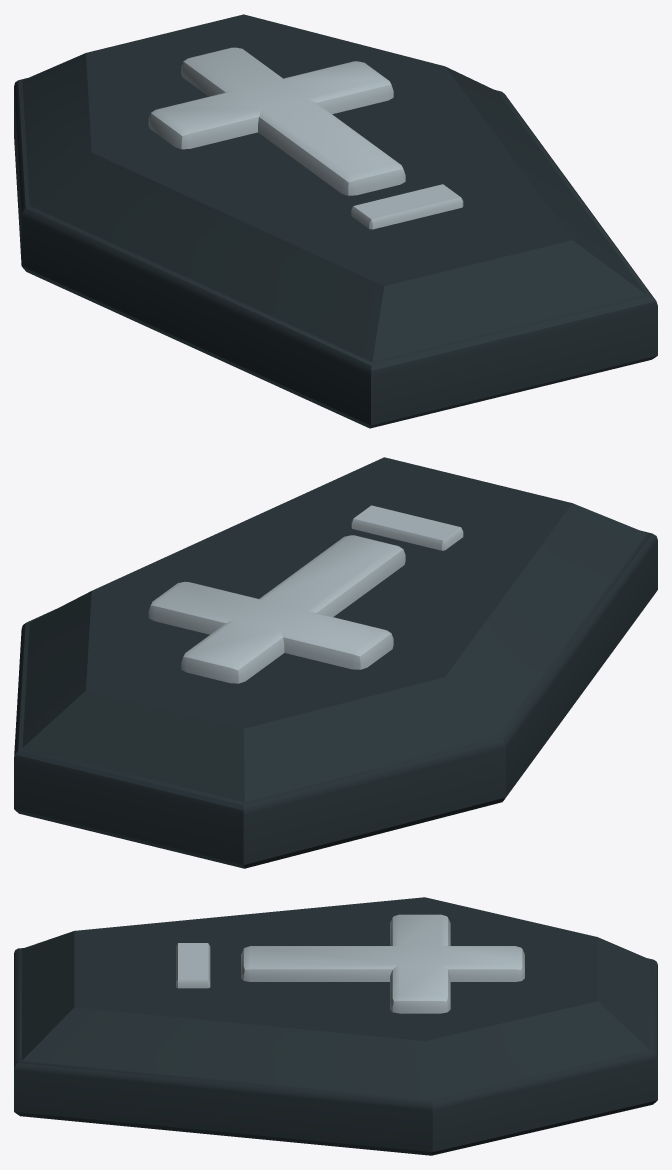
The model's file is coffinB_top.fbx.
3 views of the same model, one above another, from view 1: azimuth 30°, elevation 25°; view 2: azimuth 150°, elevation 25°; view 3: azimuth 270°, elevation 25° (orthographic). The views are drawn at different scales.
Parts seen in each view (by area): view 1: coffinB_top; view 2: coffinB_top; view 3: coffinB_top.
Part boxes in pixels (x1,y1,x2,y2): coffinB_top: [14, 14, 657, 428]; coffinB_top: [14, 457, 657, 868]; coffinB_top: [14, 897, 657, 1155].
Size of the model in its own units: 1.45 by 0.3547 by 2.
